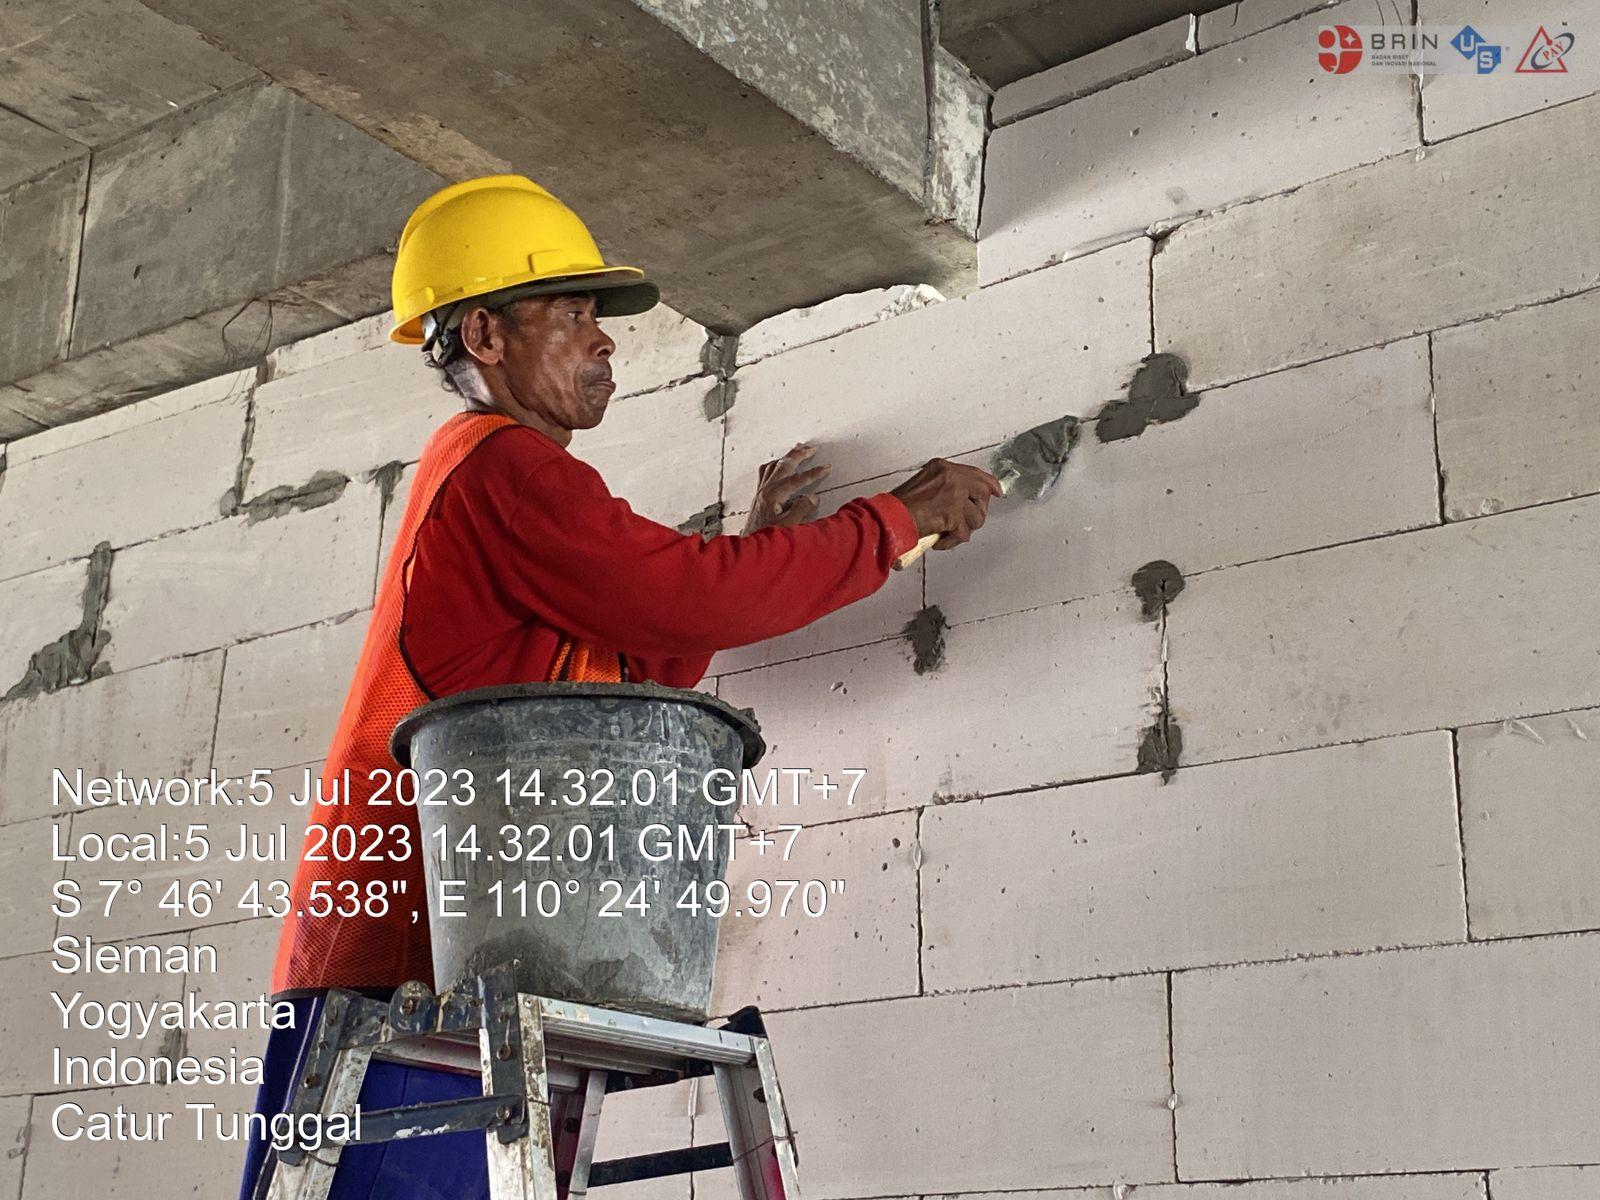hat: (368, 131, 694, 358)
vest: (283, 388, 624, 1008)
